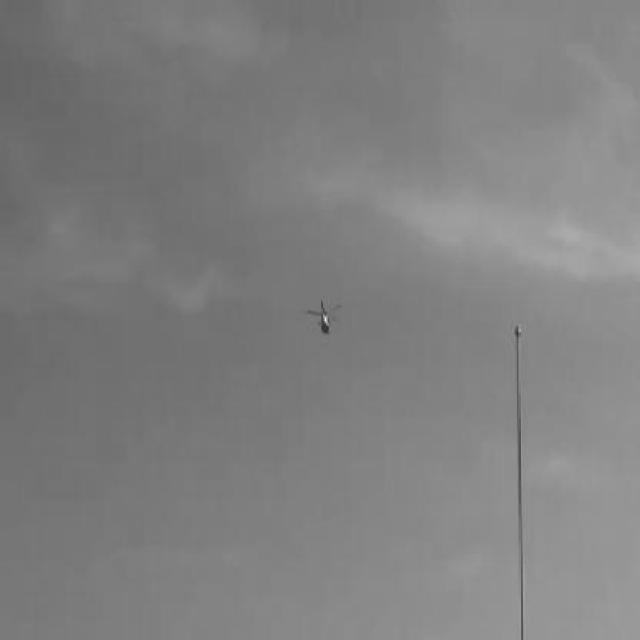helikopter: (307, 298, 338, 334)
